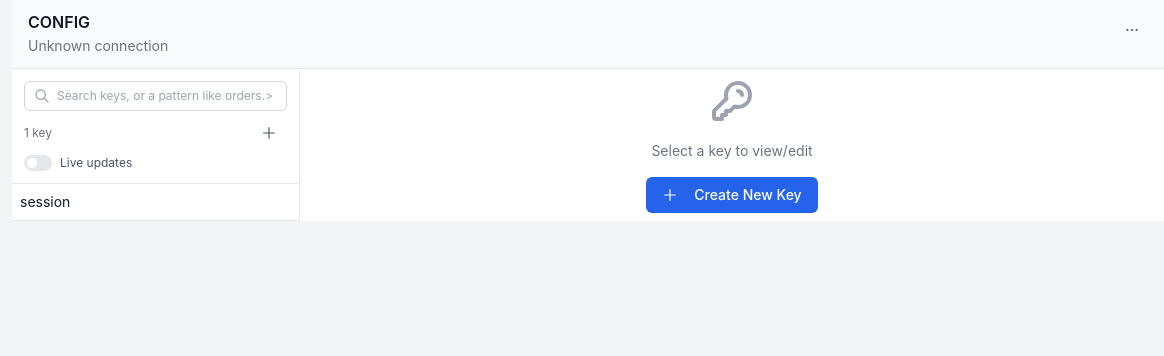
Test: KVStorePage › shows when a key with a TTL expires
Click the button "session": x=128, y=202 [12,184,243,220]
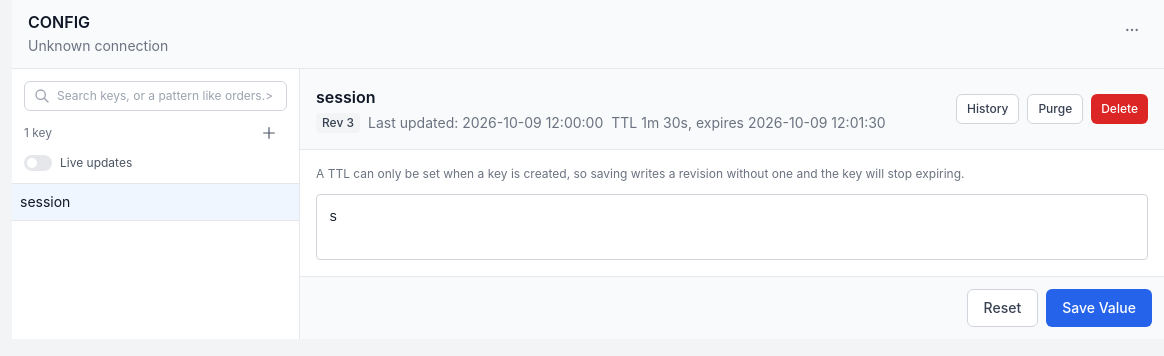
Now the text "TTL 1m 30s, expires 2026-10-09 12:01:30" is shown, box [611,113,886,133]
